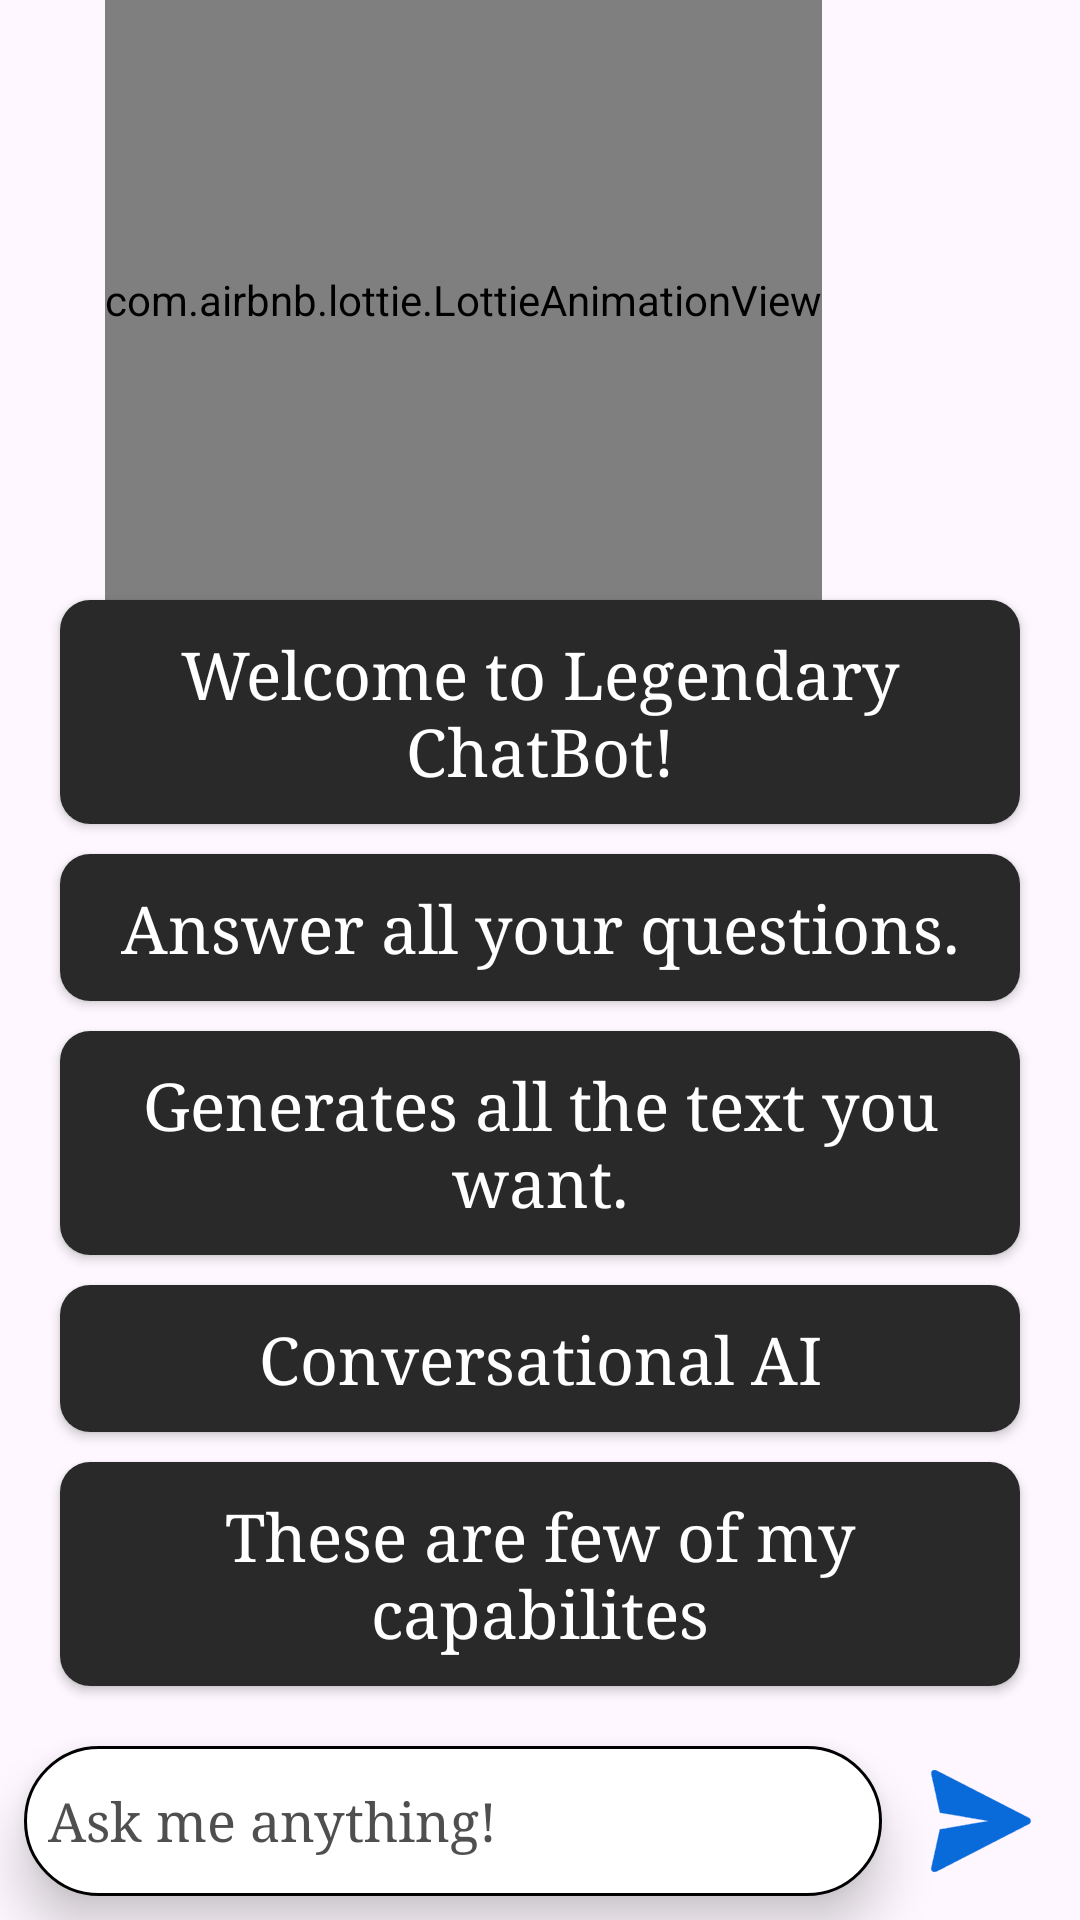

Named icons in this screenshot (1080x1920) and their bounding boxes, (x1, y1, x2, y2):
send: (931, 1770, 1031, 1872)
